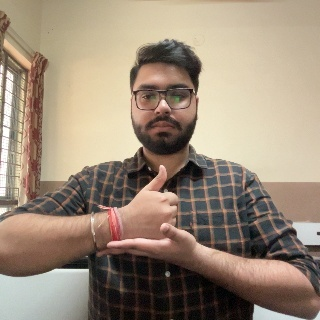Face: (132, 53, 195, 154)
Help: (99, 167, 206, 265)
